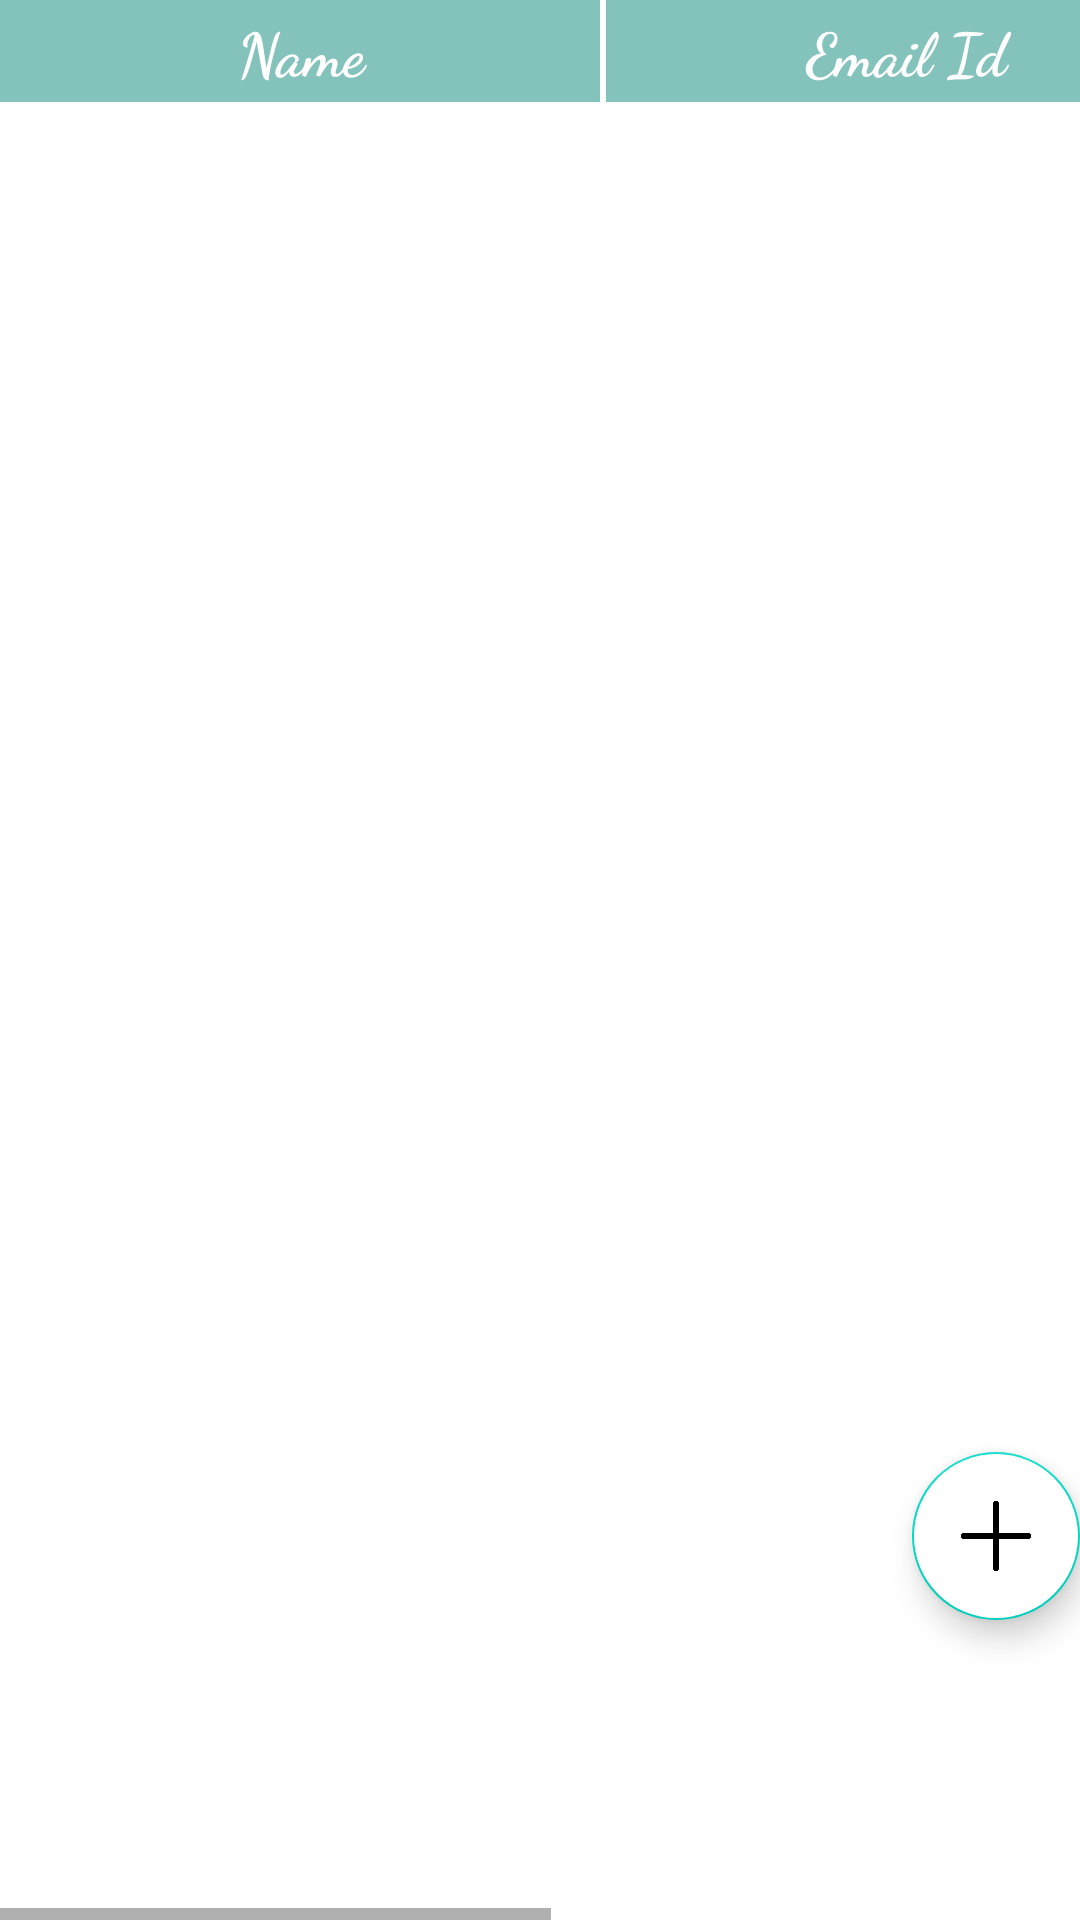

Screen size 1080px×1920px. Icon name, then its center in pixels as (x=x, y=y):
plus: (x=996, y=1536)
